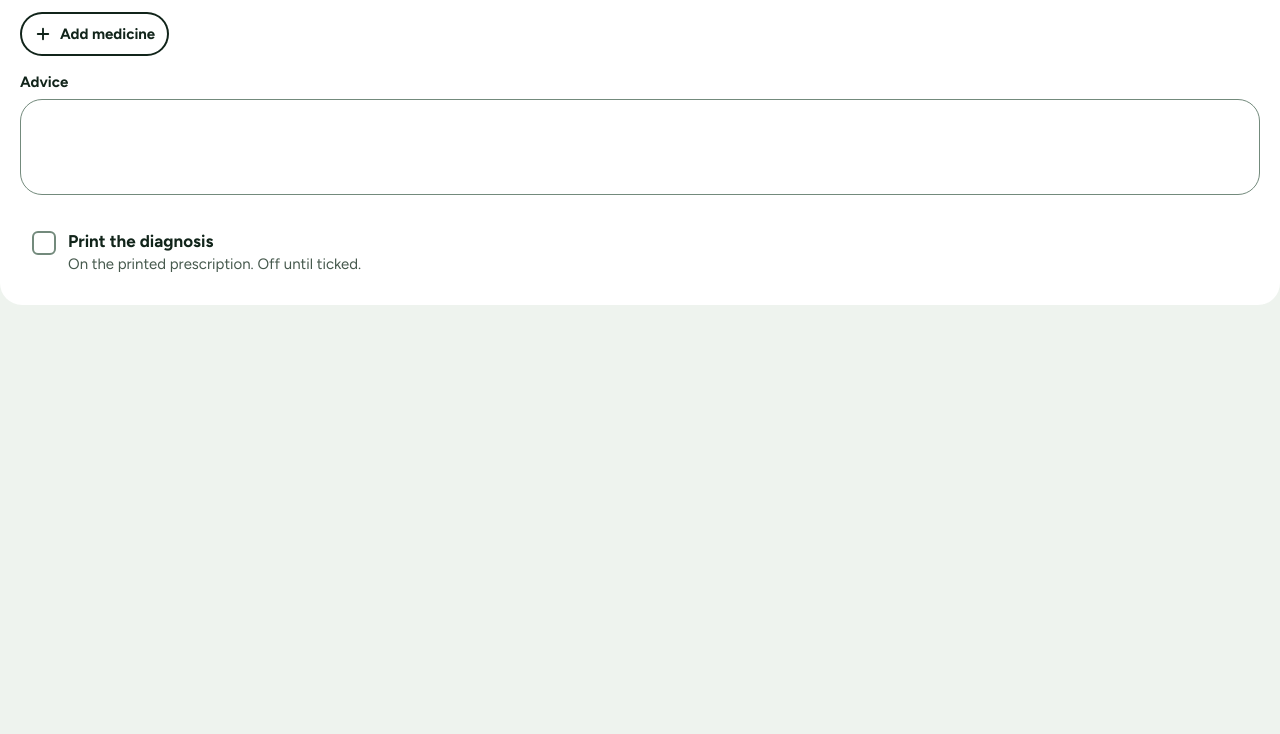
Test case: PrescriptionSection for whoever writes it (D210) › adds a medicine, its name in focus, and saves the whole from no copy with Save prescription
Expected: the button "Save prescription" is not shown
Step 1. Click the button "Add medicine" → (95, 34), box [20,12,169,56]
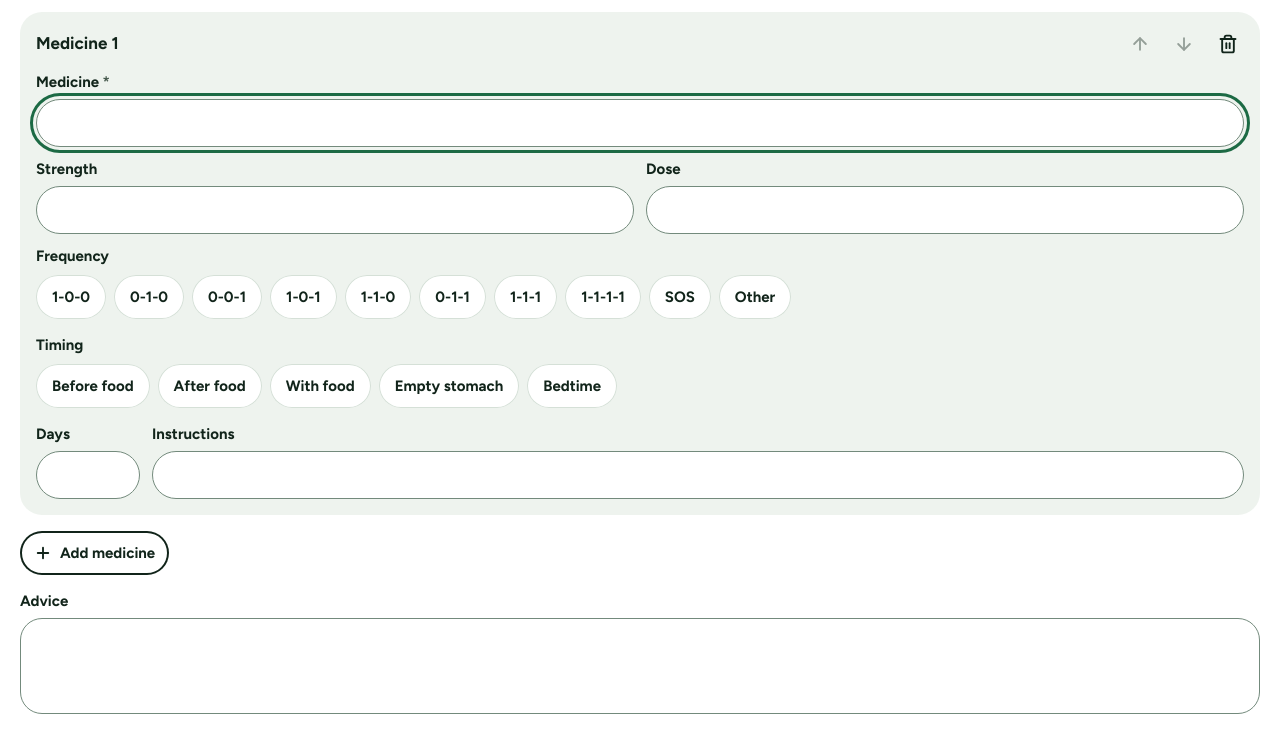
Step 2. Type "Paracetamol" into the dropdown labelled "Medicine *" → (640, 123), box [36,99,1244,147]
(page scrolled)
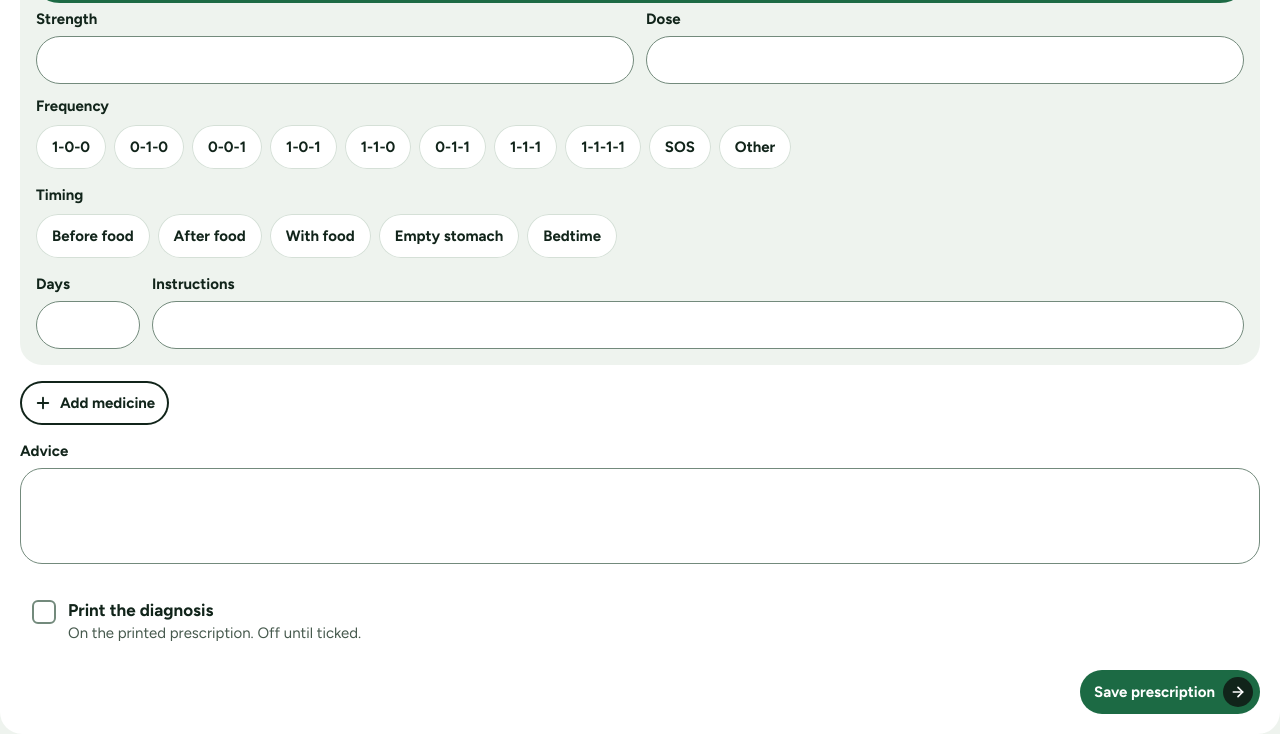
Step 3. Click the button "Save prescription" → (1170, 692), box [1080,670,1260,714]
(page scrolled)
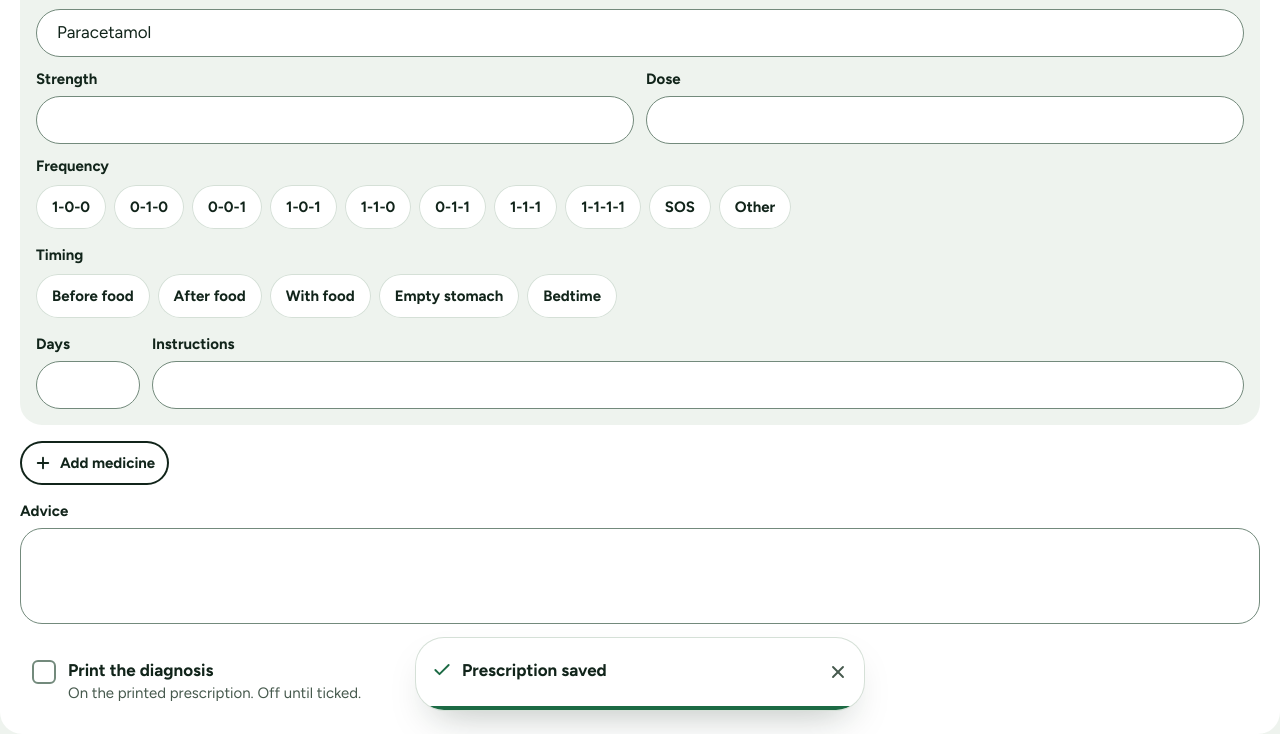
Expected: the button "Save prescription" is gone
